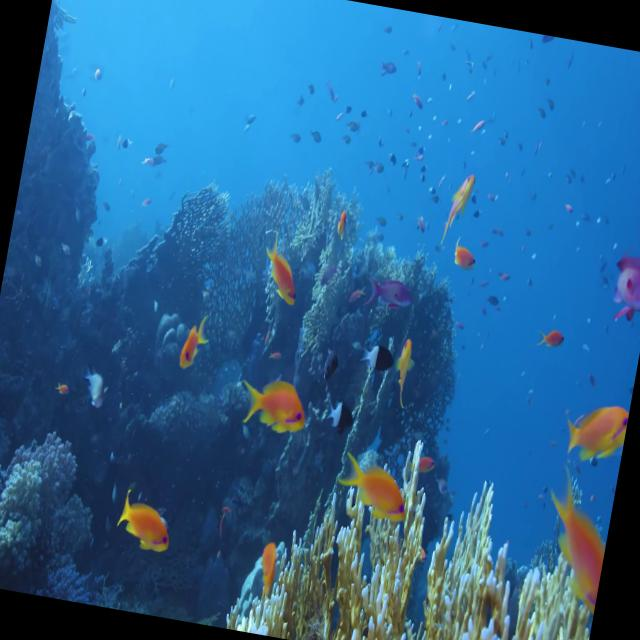fish: (534, 474, 616, 612), (328, 452, 424, 528), (560, 391, 630, 469), (236, 376, 312, 446), (254, 233, 306, 312), (115, 497, 176, 562), (436, 156, 478, 248), (606, 235, 640, 334), (174, 309, 216, 386)
